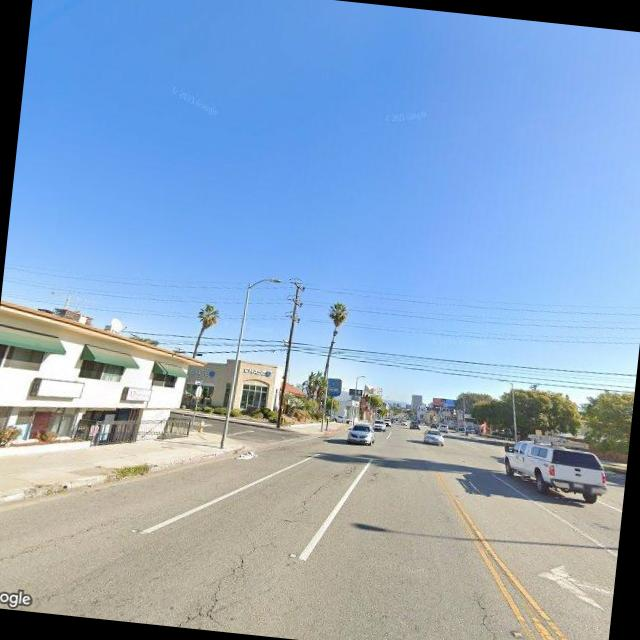crack: (0, 498, 128, 593), (158, 530, 268, 634), (292, 452, 359, 522), (465, 590, 510, 640)
